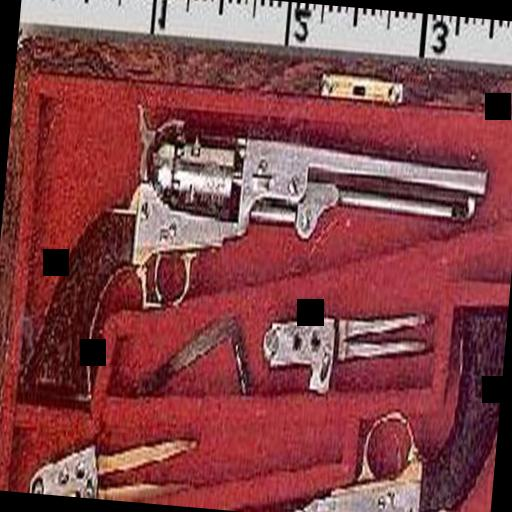Handgun: (14, 95, 492, 439)
